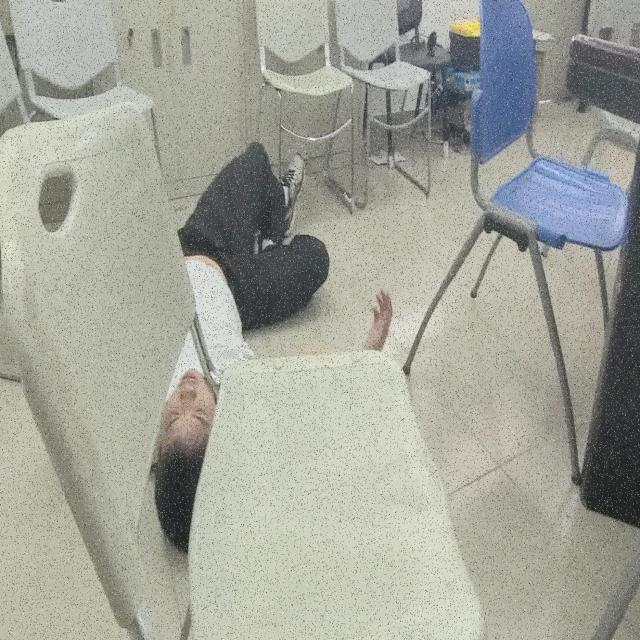fall: (133, 134, 397, 542)
